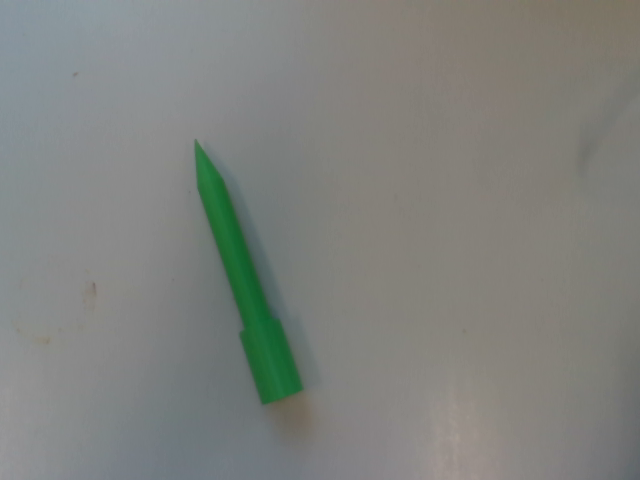Probe: (188, 129, 311, 418)
